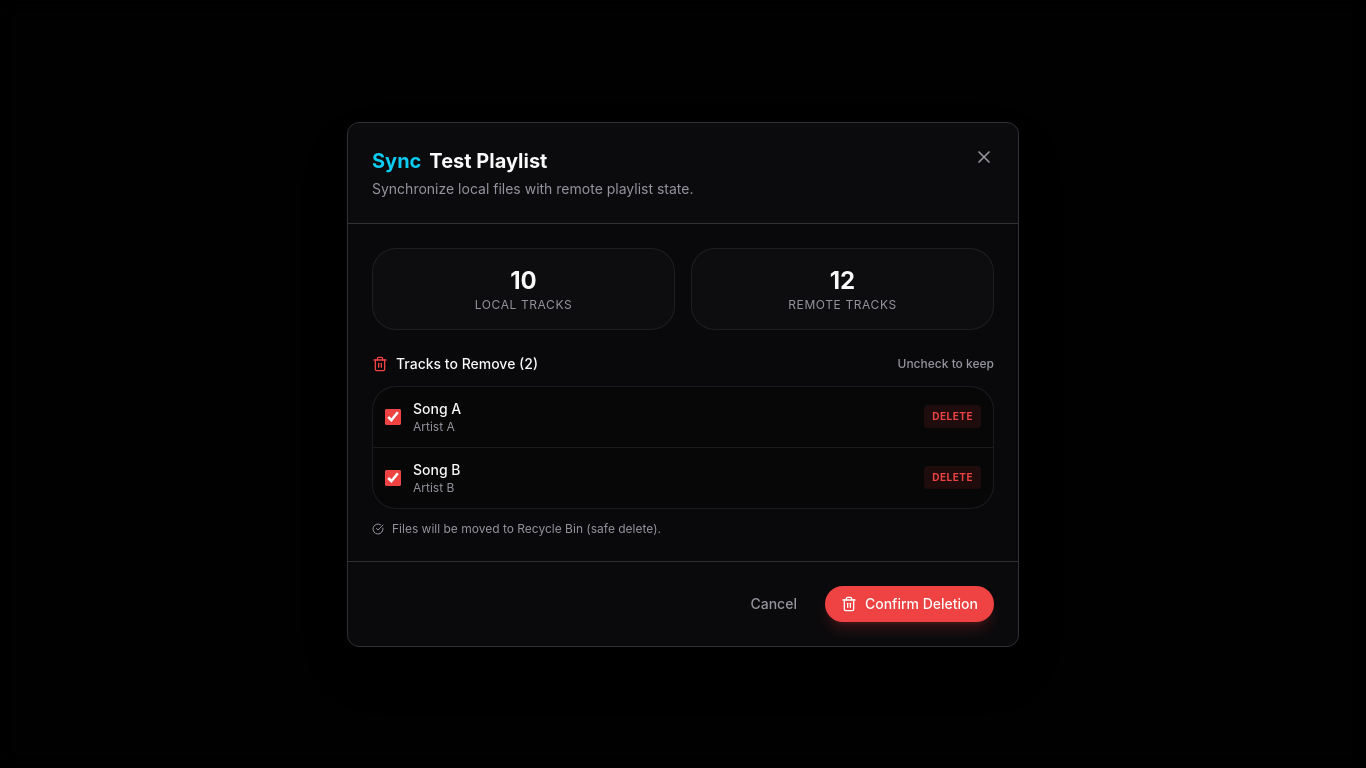
it: SyncModal › should execute sync and show success
The width and height of the screenshot is (1366, 768).
Click the button "Confirm Deletion" at (910, 604), box [825, 586, 994, 622]
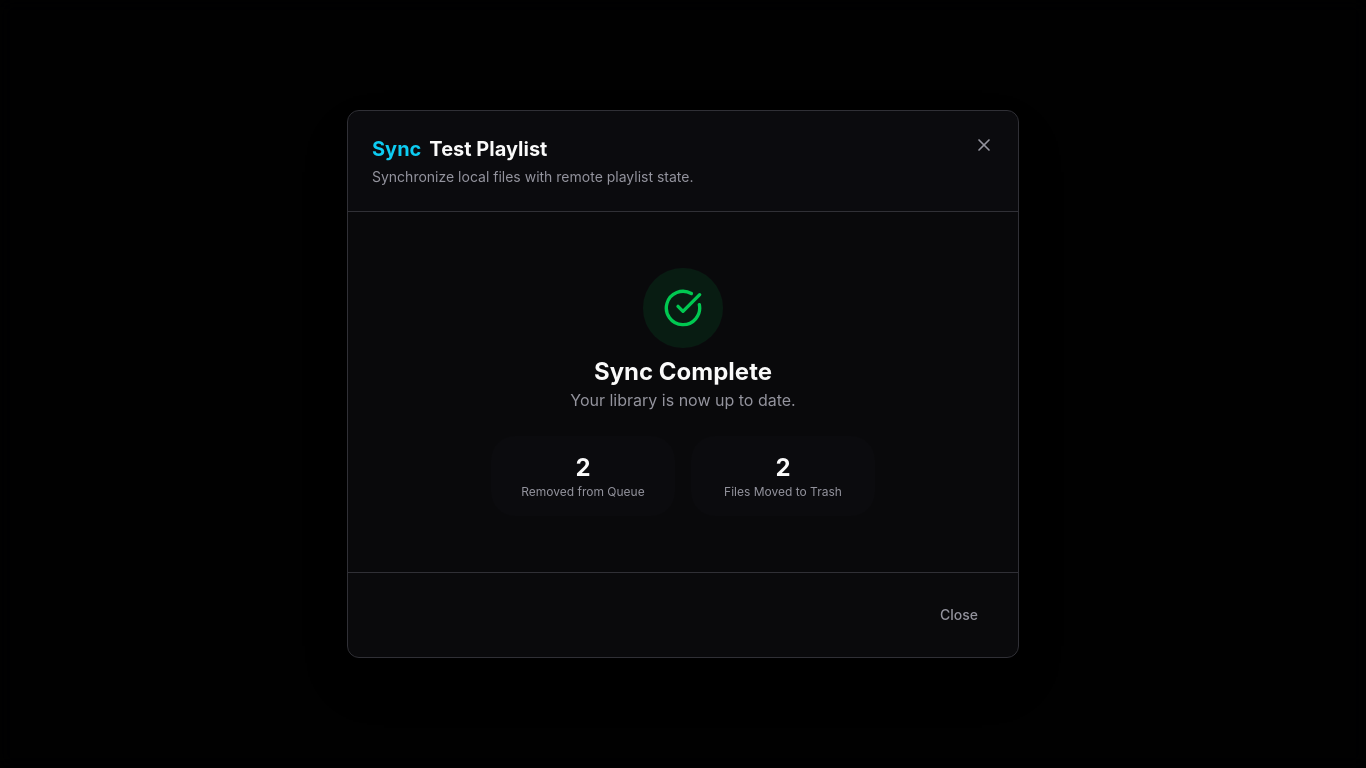
Now the heading "Sync Complete" is shown, box [594, 357, 772, 386]
